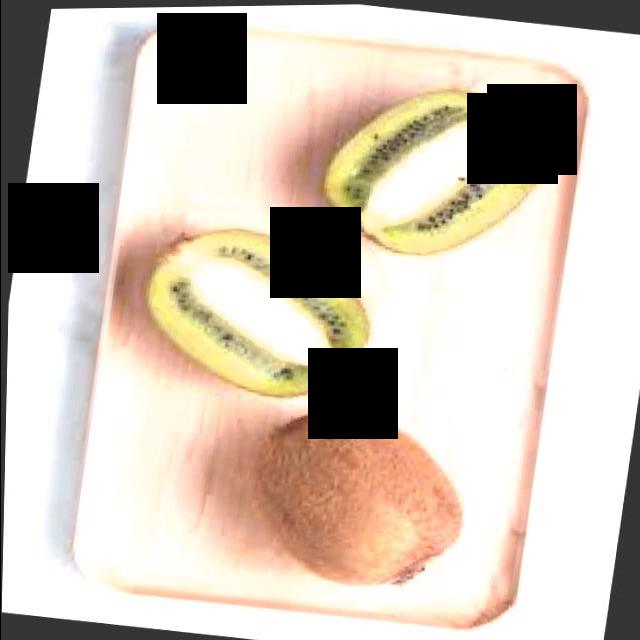kiwi: (245, 407, 478, 600)
